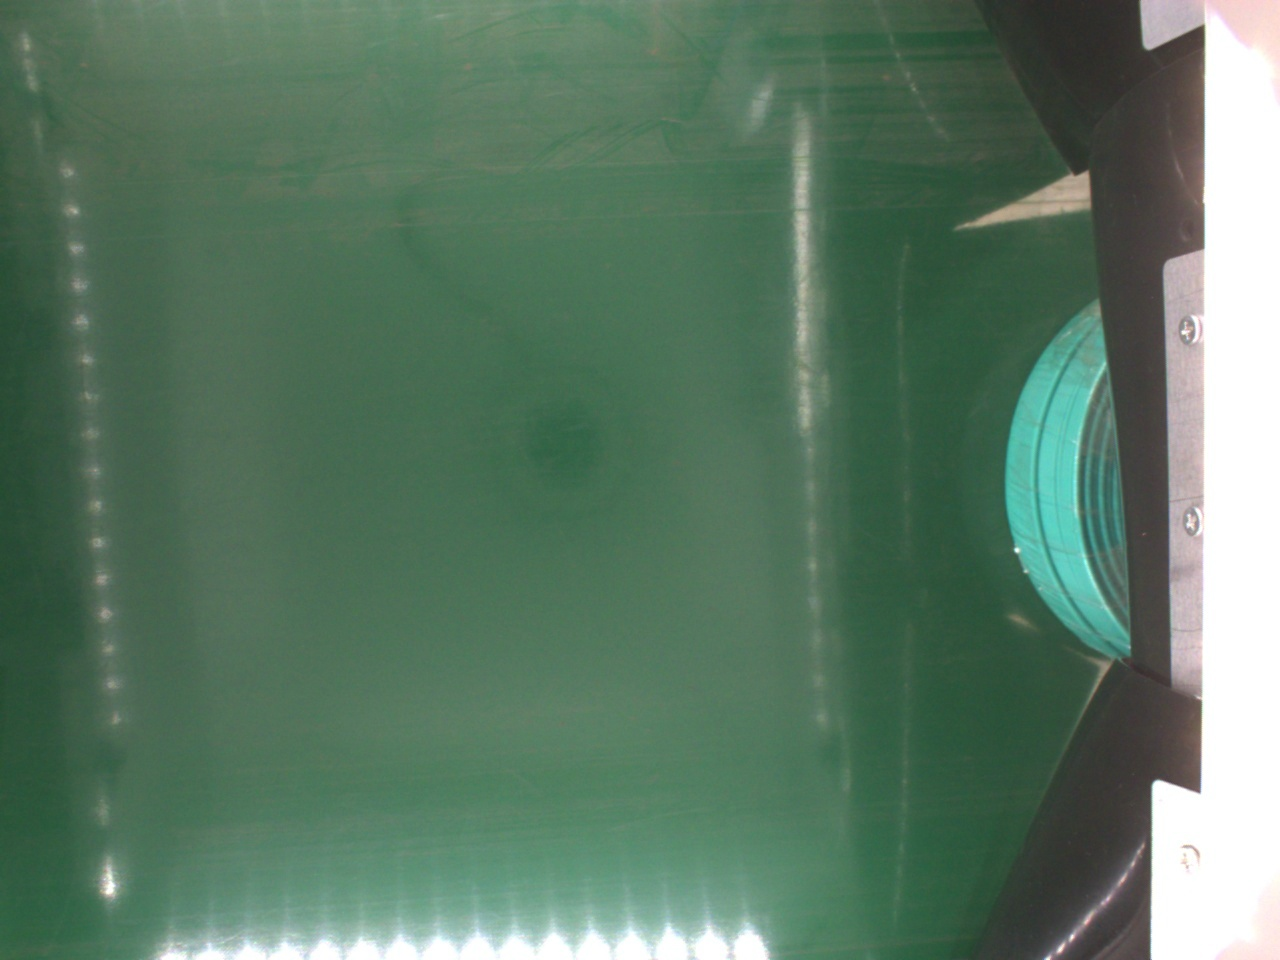green: (1003, 296, 1136, 664)
